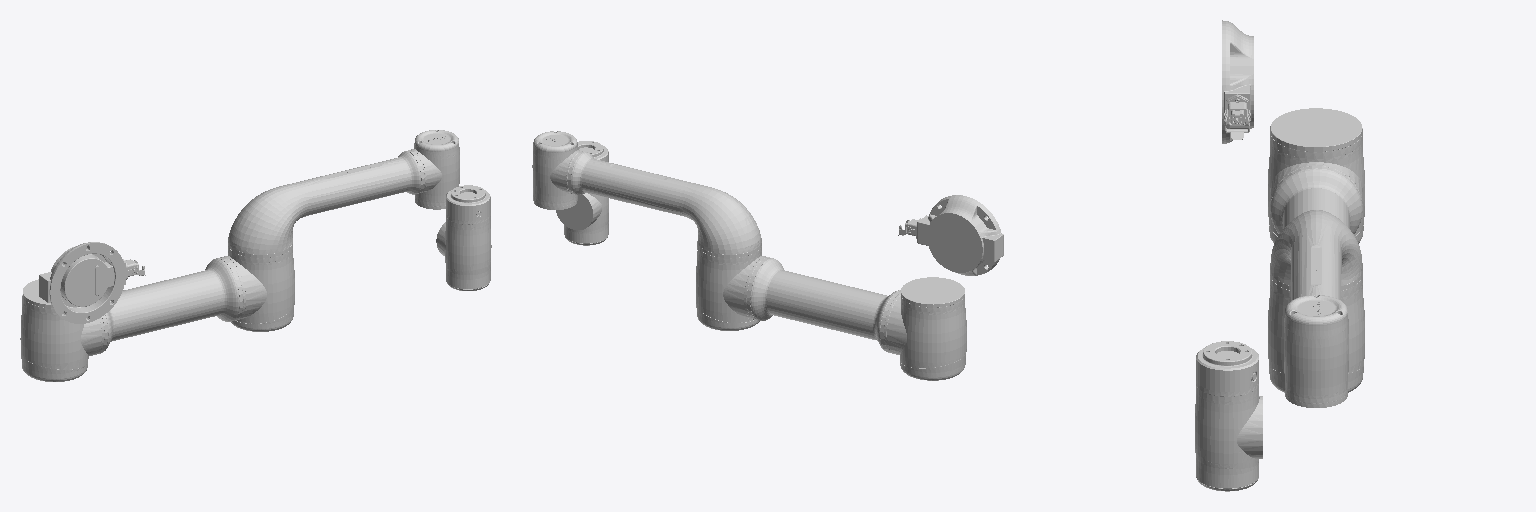
URDF robot description (Zu 5.SLDASM):
<?xml version="1.0" encoding="utf-8"?>
<!-- This URDF was automatically created by SolidWorks to URDF Exporter! Originally created by Stephen Brawner (brawner@gmail.com) 
     Commit Version: 1.6.0-4-g7f85cfe  Build Version: 1.6.7995.38578
     For more information, please see http://wiki.ros.org/sw_urdf_exporter -->
<robot
  name="Zu 5.SLDASM">
  <link
    name="Link_00">
    <inertial>
      <origin
        xyz="-0.427185873908211 -0.100605221438244 -3.08183543027631E-05"
        rpy="0 0 0" />
      <mass
        value="0.526598652051908" />
      <inertia
        ixx="0.00062959756223412"
        ixy="3.21123416404004E-06"
        ixz="2.42038795119259E-08"
        iyy="0.00136278998388592"
        iyz="-2.45011996420397E-07"
        izz="0.00086870537882105" />
    </inertial>
    <visual>
      <origin
        xyz="0 0 0"
        rpy="0 0 0" />
      <geometry>
        <mesh
          filename="../meshes/Link_00.STL" />
      </geometry>
      <material
        name="">
        <color
          rgba="0.847058823529412 0.847058823529412 0.847058823529412 1" />
      </material>
    </visual>
    <collision>
      <origin
        xyz="0 0 0"
        rpy="0 0 0" />
      <geometry>
        <mesh
          filename="../meshes/Link_00.STL" />
      </geometry>
    </collision>
  </link>
  <link
    name="Link_01">
    <inertial>
      <origin
        xyz="-2.51857531862947E-07 0.00332256500839039 -0.00150902460016494"
        rpy="0 0 0" />
      <mass
        value="15.1346479444998" />
      <inertia
        ixx="0.0443031651788231"
        ixy="-2.81167524079919E-08"
        ixz="-4.05968268990279E-07"
        iyy="0.0430901762109995"
        iyz="1.43719449704963E-05"
        izz="0.0305221713846399" />
    </inertial>
    <visual>
      <origin
        xyz="0 0 0"
        rpy="0 0 0" />
      <geometry>
        <mesh
          filename="../meshes/Link_01.STL" />
      </geometry>
      <material
        name="">
        <color
          rgba="0.847058823529412 0.847058823529412 0.847058823529412 1" />
      </material>
    </visual>
    <collision>
      <origin
        xyz="0 0 0"
        rpy="0 0 0" />
      <geometry>
        <mesh
          filename="../meshes/Link_01.STL" />
      </geometry>
    </collision>
  </link>
  <joint
    name="Joint01"
    type="revolute">
    <origin
      xyz="-0.43 0 0"
      rpy="-1.5708 0 0" />
    <parent
      link="Link_00" />
    <child
      link="Link_01" />
    <axis
      xyz="0 0 -1" />
    <limit
      lower="0"
      upper="0"
      effort="0"
      velocity="0" />
  </joint>
  <link
    name="Link_02">
    <inertial>
      <origin
        xyz="0.215000100287162 6.43173034275968E-09 -0.143146610069182"
        rpy="0 0 0" />
      <mass
        value="45.8465918633366" />
      <inertia
        ixx="0.1037483140575"
        ixy="-5.87095025937146E-08"
        ixz="2.54282490385597E-07"
        iyy="0.240121009336192"
        iyz="2.15483178506015E-08"
        izz="0.212572501503178" />
    </inertial>
    <visual>
      <origin
        xyz="0 0 0"
        rpy="0 0 0" />
      <geometry>
        <mesh
          filename="../meshes/Link_02.STL" />
      </geometry>
      <material
        name="">
        <color
          rgba="0.847058823529412 0.847058823529412 0.847058823529412 1" />
      </material>
    </visual>
    <collision>
      <origin
        xyz="0 0 0"
        rpy="0 0 0" />
      <geometry>
        <mesh
          filename="../meshes/Link_02.STL" />
      </geometry>
    </collision>
  </link>
  <joint
    name="Joint02"
    type="revolute">
    <origin
      xyz="0 0 0"
      rpy="1.5708 0 0" />
    <parent
      link="Link_01" />
    <child
      link="Link_02" />
    <axis
      xyz="0 0 1" />
    <limit
      lower="0"
      upper="0"
      effort="0"
      velocity="0" />
  </joint>
  <link
    name="Link_03">
    <inertial>
      <origin
        xyz="0.190735496583493 -1.52687675682717E-05 -0.0106365862195608"
        rpy="0 0 0" />
      <mass
        value="18.0534564554839" />
      <inertia
        ixx="0.0197914204709761"
        ixy="6.48612971207147E-07"
        ixz="-0.0162800799758652"
        iyy="0.168630223367361"
        iyz="3.37641397448157E-07"
        izz="0.16527336838242" />
    </inertial>
    <visual>
      <origin
        xyz="0 0 0"
        rpy="0 0 0" />
      <geometry>
        <mesh
          filename="../meshes/Link_03.STL" />
      </geometry>
      <material
        name="">
        <color
          rgba="0.847058823529412 0.847058823529412 0.847058823529412 1" />
      </material>
    </visual>
    <collision>
      <origin
        xyz="0 0 0"
        rpy="0 0 0" />
      <geometry>
        <mesh
          filename="../meshes/Link_03.STL" />
      </geometry>
    </collision>
  </link>
  <joint
    name="Joint03"
    type="revolute">
    <origin
      xyz="0.43 0 0"
      rpy="0 0 0" />
    <parent
      link="Link_02" />
    <child
      link="Link_03" />
    <axis
      xyz="0 0 1" />
    <limit
      lower="0"
      upper="0"
      effort="0"
      velocity="0" />
  </joint>
  <link
    name="Link_04">
    <inertial>
      <origin
        xyz="-1.98734804579548E-06 -0.00595118756440464 0.00267886074216199"
        rpy="0 0 0" />
      <mass
        value="5.53782702890545" />
      <inertia
        ixx="0.00708415707773477"
        ixy="1.83211236329484E-07"
        ixz="-2.36169851113593E-08"
        iyy="0.00516123063669001"
        iyz="-0.000397739879929697"
        izz="0.00684324625577803" />
    </inertial>
    <visual>
      <origin
        xyz="0 0 0"
        rpy="0 0 0" />
      <geometry>
        <mesh
          filename="../meshes/Link_04.STL" />
      </geometry>
      <material
        name="">
        <color
          rgba="0.847058823529412 0.847058823529412 0.847058823529412 1" />
      </material>
    </visual>
    <collision>
      <origin
        xyz="0 0 0"
        rpy="0 0 0" />
      <geometry>
        <mesh
          filename="../meshes/Link_04.STL" />
      </geometry>
    </collision>
  </link>
  <joint
    name="Joint04"
    type="revolute">
    <origin
      xyz="0.3685 -1.185E-05 -0.114"
      rpy="0 0 0" />
    <parent
      link="Link_03" />
    <child
      link="Link_04" />
    <axis
      xyz="0 0 -1" />
    <limit
      lower="0"
      upper="0"
      effort="0"
      velocity="0" />
  </joint>
  <link
    name="Link_05">
    <inertial>
      <origin
        xyz="-1.90944871258925E-06 -0.00288907759425719 -0.00234237394169146"
        rpy="0 0 0" />
      <mass
        value="6.33394466548073" />
      <inertia
        ixx="0.012920396120737"
        ixy="-1.0865958591237E-07"
        ixz="5.89055788072658E-09"
        iyy="0.00584529345673899"
        iyz="4.29603782509838E-05"
        izz="0.0126275585433332" />
    </inertial>
    <visual>
      <origin
        xyz="0 0 0"
        rpy="0 0 0" />
      <geometry>
        <mesh
          filename="../meshes/Link_05.STL" />
      </geometry>
      <material
        name="">
        <color
          rgba="0.847058823529412 0.847058823529412 0.847058823529412 1" />
      </material>
    </visual>
    <collision>
      <origin
        xyz="0 0 0"
        rpy="0 0 0" />
      <geometry>
        <mesh
          filename="../meshes/Link_05.STL" />
      </geometry>
    </collision>
  </link>
  <joint
    name="Joint05"
    type="revolute">
    <origin
      xyz="0 -0.1135 0"
      rpy="1.5708 0 0" />
    <parent
      link="Link_04" />
    <child
      link="Link_05" />
    <axis
      xyz="0 0 1" />
    <limit
      lower="0"
      upper="0"
      effort="0"
      velocity="0" />
  </joint>
  <link
    name="Link_06">
    <inertial>
      <origin
        xyz="2.76523161145681E-05 -1.34854737601593E-05 -0.021245060068734"
        rpy="0 0 0" />
      <mass
        value="1.41689125820954" />
      <inertia
        ixx="0.000713704897956401"
        ixy="-6.91164349011075E-07"
        ixz="-6.36734535409925E-07"
        iyy="0.000723626940396581"
        iyz="1.5890038073838E-06"
        izz="0.00112895600939514" />
    </inertial>
    <visual>
      <origin
        xyz="0 0 0"
        rpy="0 0 0" />
      <geometry>
        <mesh
          filename="../meshes/Link_06.STL" />
      </geometry>
      <material
        name="">
        <color
          rgba="0.847058823529412 0.847058823529412 0.847058823529412 1" />
      </material>
    </visual>
    <collision>
      <origin
        xyz="0 0 0"
        rpy="0 0 0" />
      <geometry>
        <mesh
          filename="../meshes/Link_06.STL" />
      </geometry>
    </collision>
  </link>
  <joint
    name="Joint06"
    type="revolute">
    <origin
      xyz="0 0.107 0"
      rpy="-1.5708 0 0" />
    <parent
      link="Link_05" />
    <child
      link="Link_06" />
    <axis
      xyz="0 0 1" />
    <limit
      lower="0"
      upper="0"
      effort="0"
      velocity="0" />
  </joint>
</robot>

--- Render facts (derived) ---
The picture shows the robot from 3 angles, left to right: view 1: azimuth 30°, elevation 25°; view 2: azimuth 150°, elevation 25°; view 3: azimuth 270°, elevation 25°; orthographic projection.
Model Zu 5.SLDASM with 7 links and 6 joints (6 revolute), rooted at Link_00, posed all joints at 0.
Visible links, largest first — view 1: Link_02, Link_03, Link_00, Link_05, Link_06; view 2: Link_02, Link_03, Link_00, Link_05; view 3: Link_02, Link_03, Link_05, Link_00, Link_06.
Link boxes in pixels (x1,y1,x2,y2): Link_02: (20,243,294,381); Link_03: (228,130,459,254); Link_00: (39,242,145,323); Link_05: (436,213,491,290); Link_06: (446,185,490,220); Link_02: (696,241,966,380); Link_03: (532,131,761,254); Link_00: (898,195,1003,275); Link_05: (556,193,608,245); Link_02: (1268,108,1364,392); Link_03: (1270,210,1362,407); Link_05: (1195,381,1262,491); Link_00: (1222,20,1253,143); Link_06: (1196,341,1258,391).
Size in the robot's own frame: 0.9227 by 0.2181 by 0.3006 metres.
5 mesh visuals loaded from 7 distinct referenced files (5 binary STL); not drawn: 2 (reference not matched to a file when rendering).
